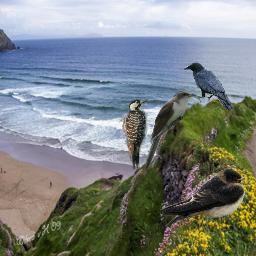Crow: (183, 62, 234, 112)
Cuckoo: (142, 90, 197, 172)
Swallow: (160, 168, 247, 227)
Woodpecker: (117, 99, 149, 173)
